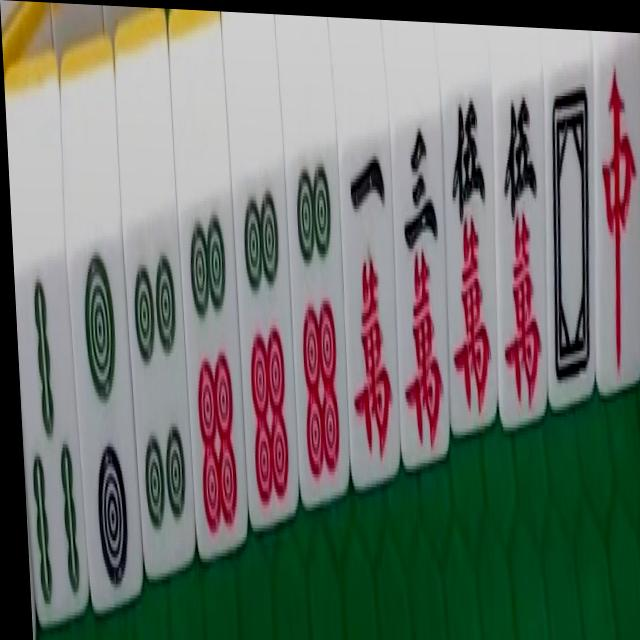bai: (535, 40, 608, 406)
m1: (338, 125, 403, 455)
m3: (393, 89, 454, 451)
m5: (440, 79, 503, 439), (490, 72, 553, 427)
s3: (21, 248, 84, 614)
t2: (68, 242, 137, 610)
t4: (126, 215, 195, 571)
t6: (232, 169, 301, 518), (179, 196, 247, 539), (285, 152, 349, 484)
zhong: (592, 47, 640, 382)
